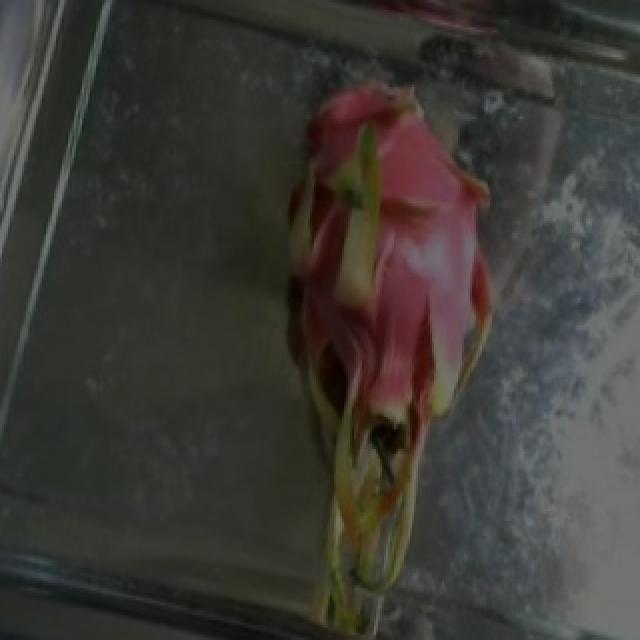fruit: (184, 35, 532, 486)
